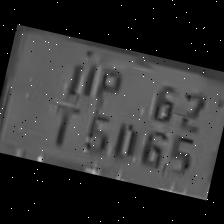0: (106, 113, 145, 164)
2: (172, 84, 210, 133)
5: (76, 103, 116, 158), (162, 124, 200, 176)
6: (134, 122, 170, 172), (144, 78, 182, 125)
P: (86, 60, 128, 113)
T: (40, 94, 84, 152)
U: (56, 51, 98, 103)
